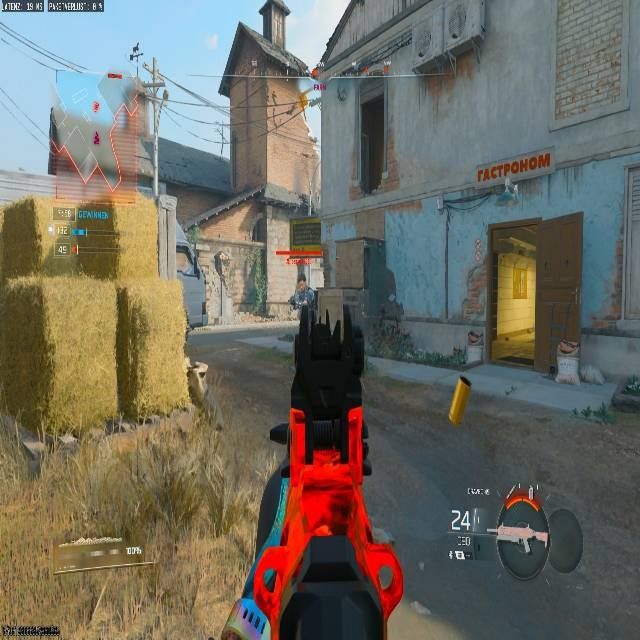head: (297, 276, 306, 290)
player: (288, 276, 316, 319)
